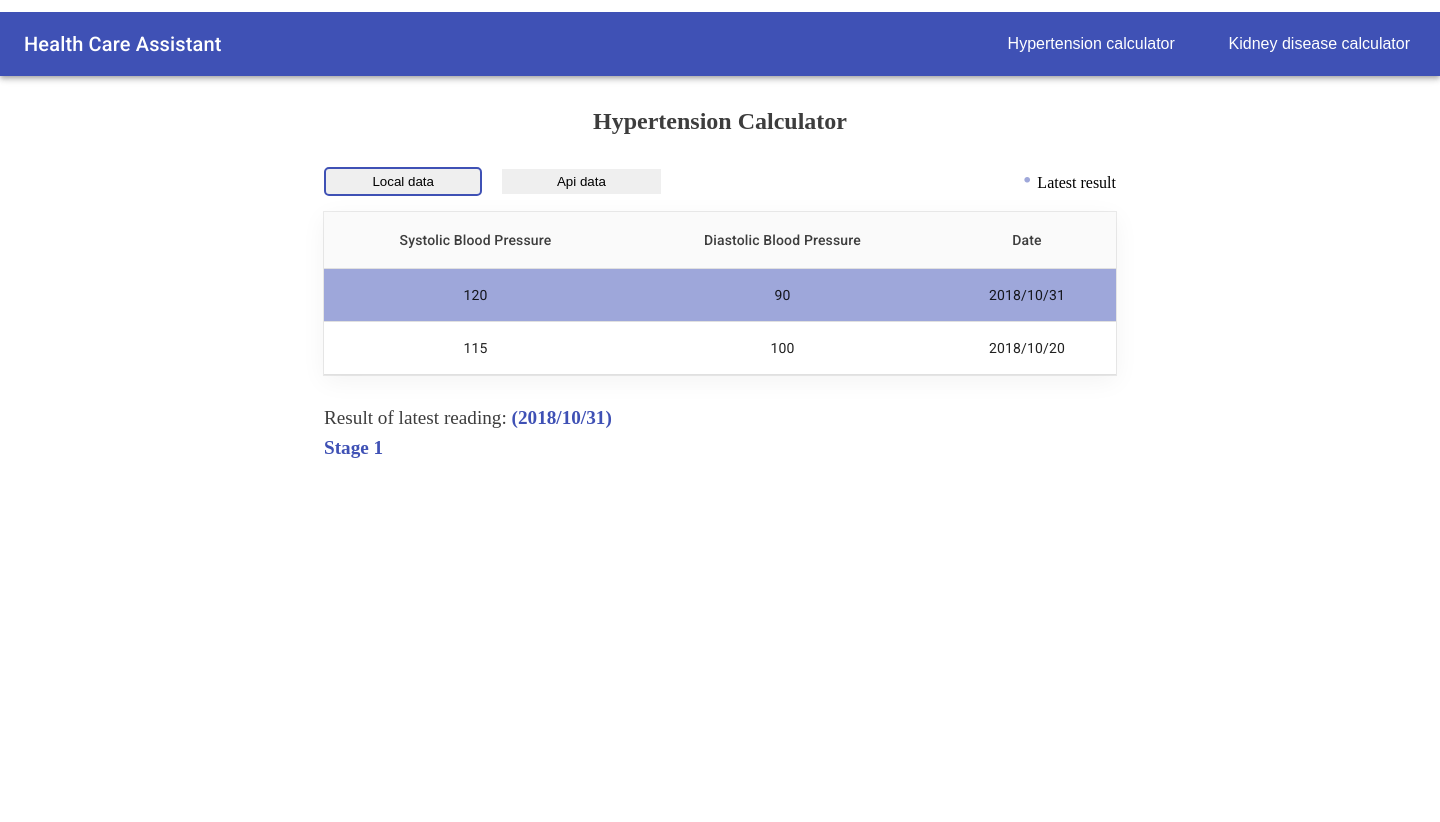
Test: Navigation component testing › Navigation should change the route when navigation items are clicked
Note: Change the view to hypertension calculator
Click the button with test id "navigation-item" showing "Kidney disease calculator" at (1319, 44), box [1223,12,1416,76]
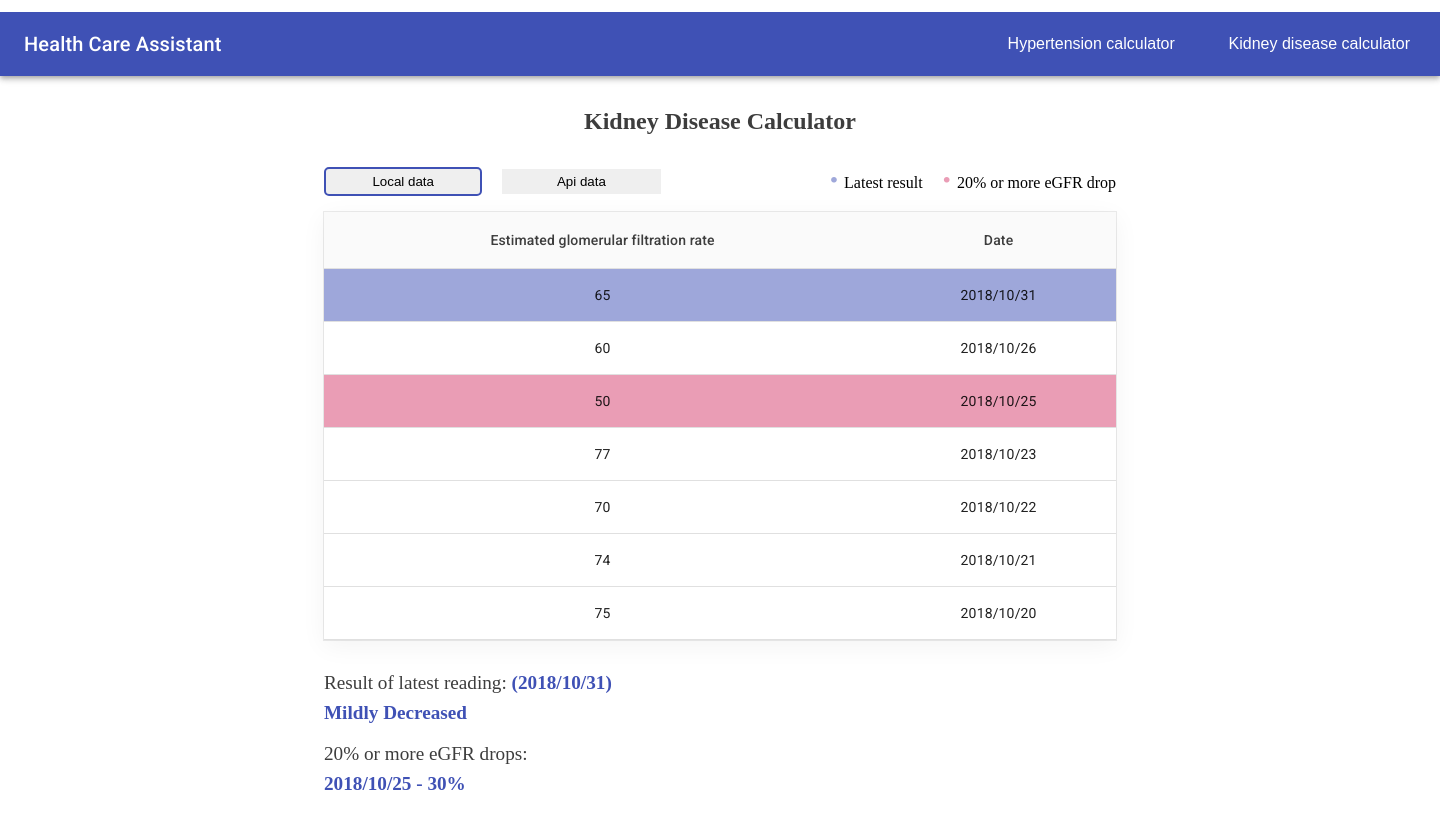
Check: the heading "Kidney Disease Calculator" is shown, box [584,108,856,134]
Note: Change the view to kidney disease calculator
Click the button with test id "navigation-item" showing "Hypertension calculator" at (1091, 44), box [1002,12,1181,76]
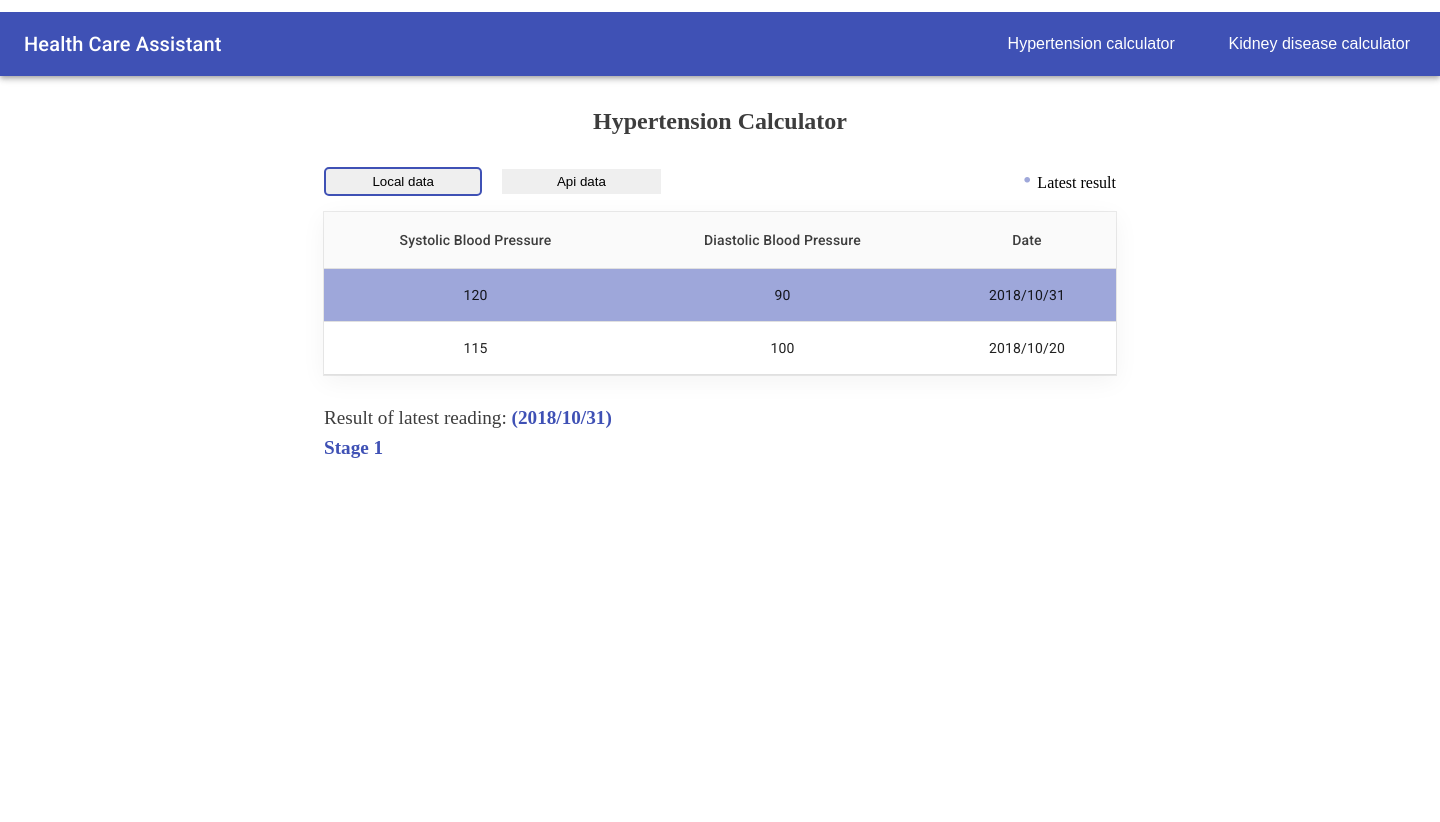
Check: the heading "Hypertension Calculator" is shown, box [593,108,847,134]
